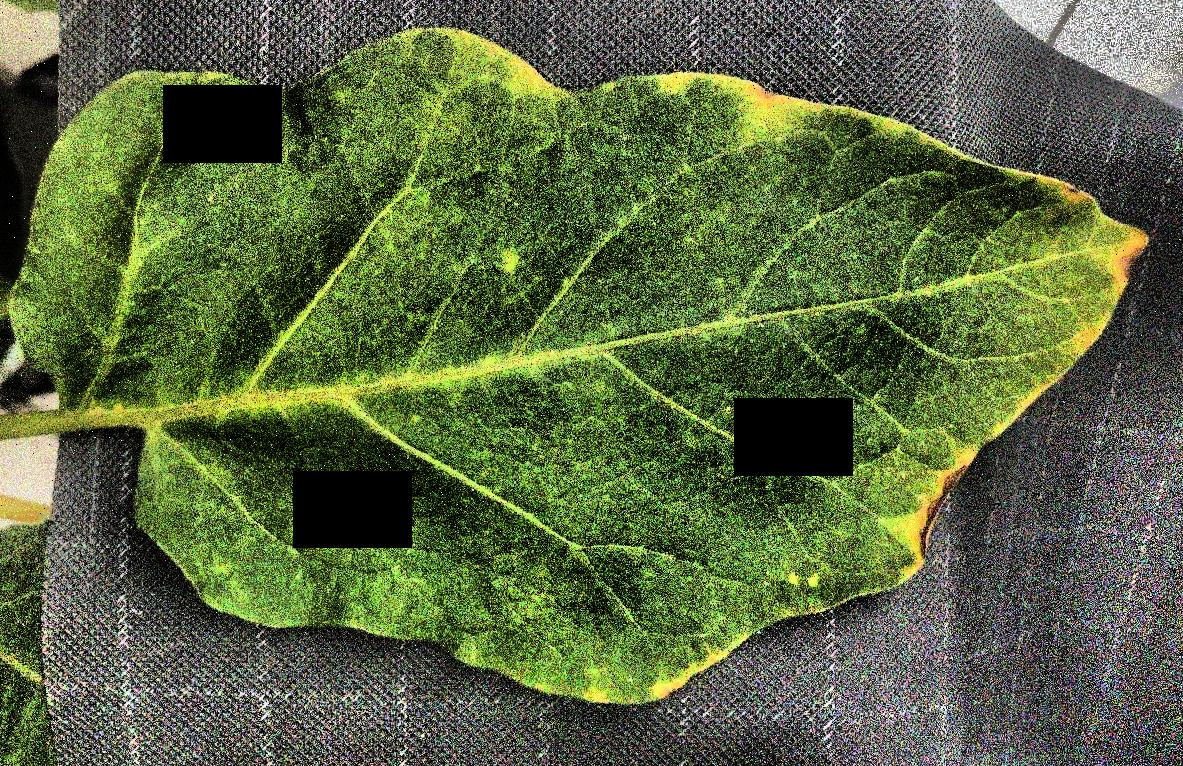Non-critical Stress: (1, 0, 1183, 766)
